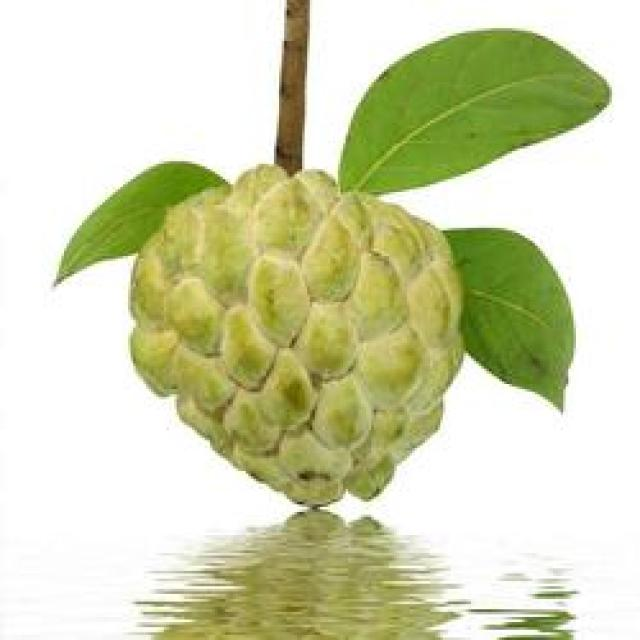apple: (120, 159, 468, 527)
